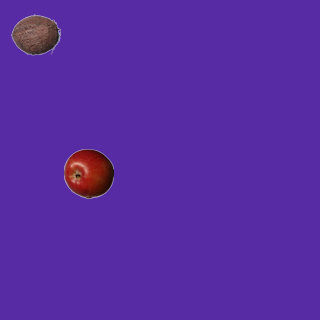Apple Braeburn: (63, 148, 113, 198)
Cocos: (10, 9, 60, 59)
